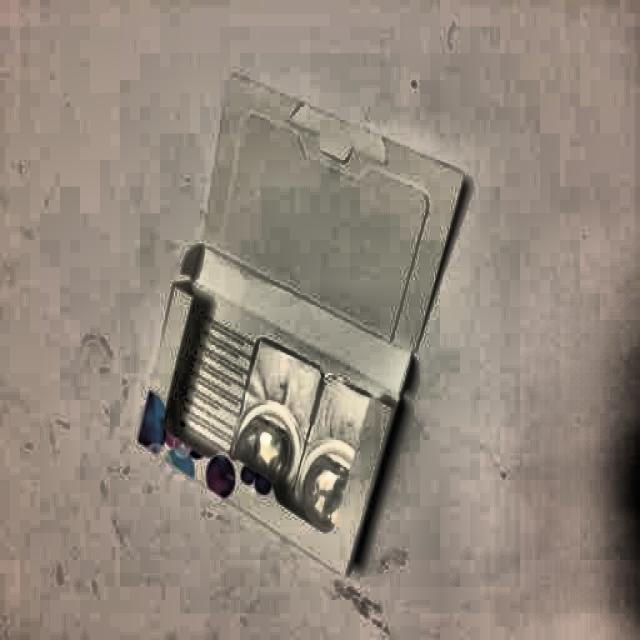trash: (148, 80, 458, 575)
